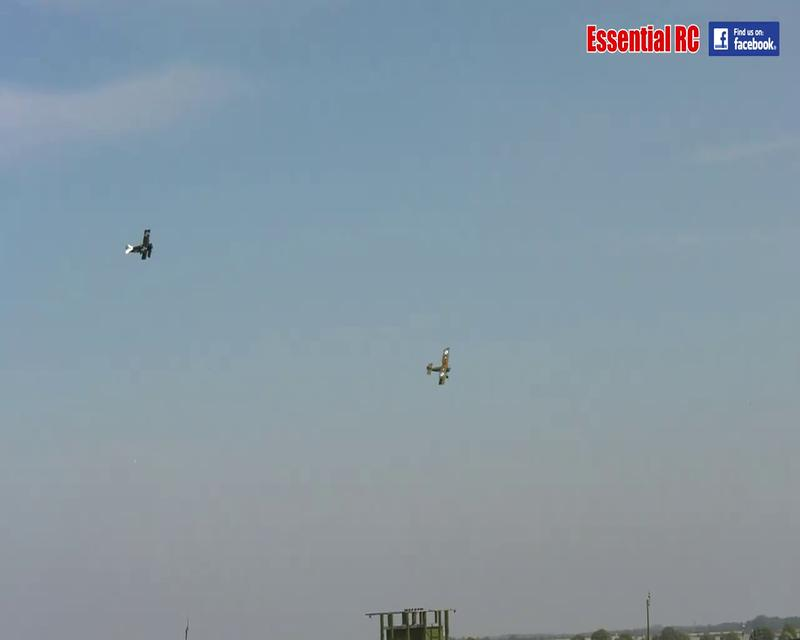UAV: (427, 345, 452, 386), (124, 228, 153, 260)
